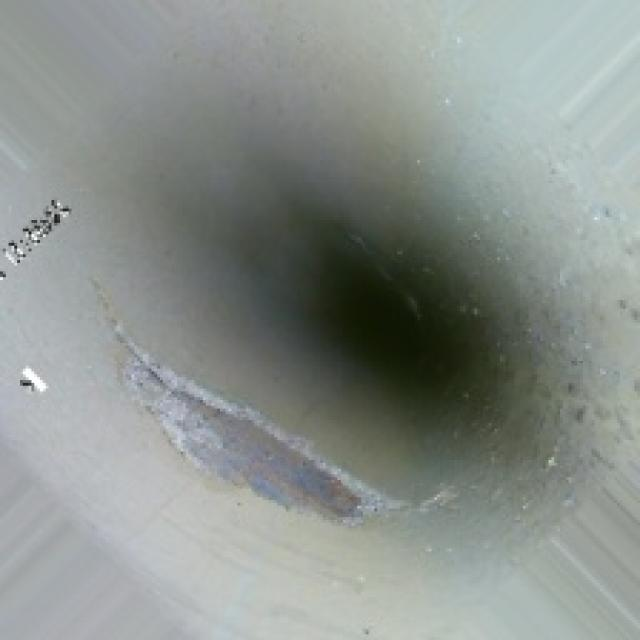pipe_surface_damage: (111, 317, 403, 534)
